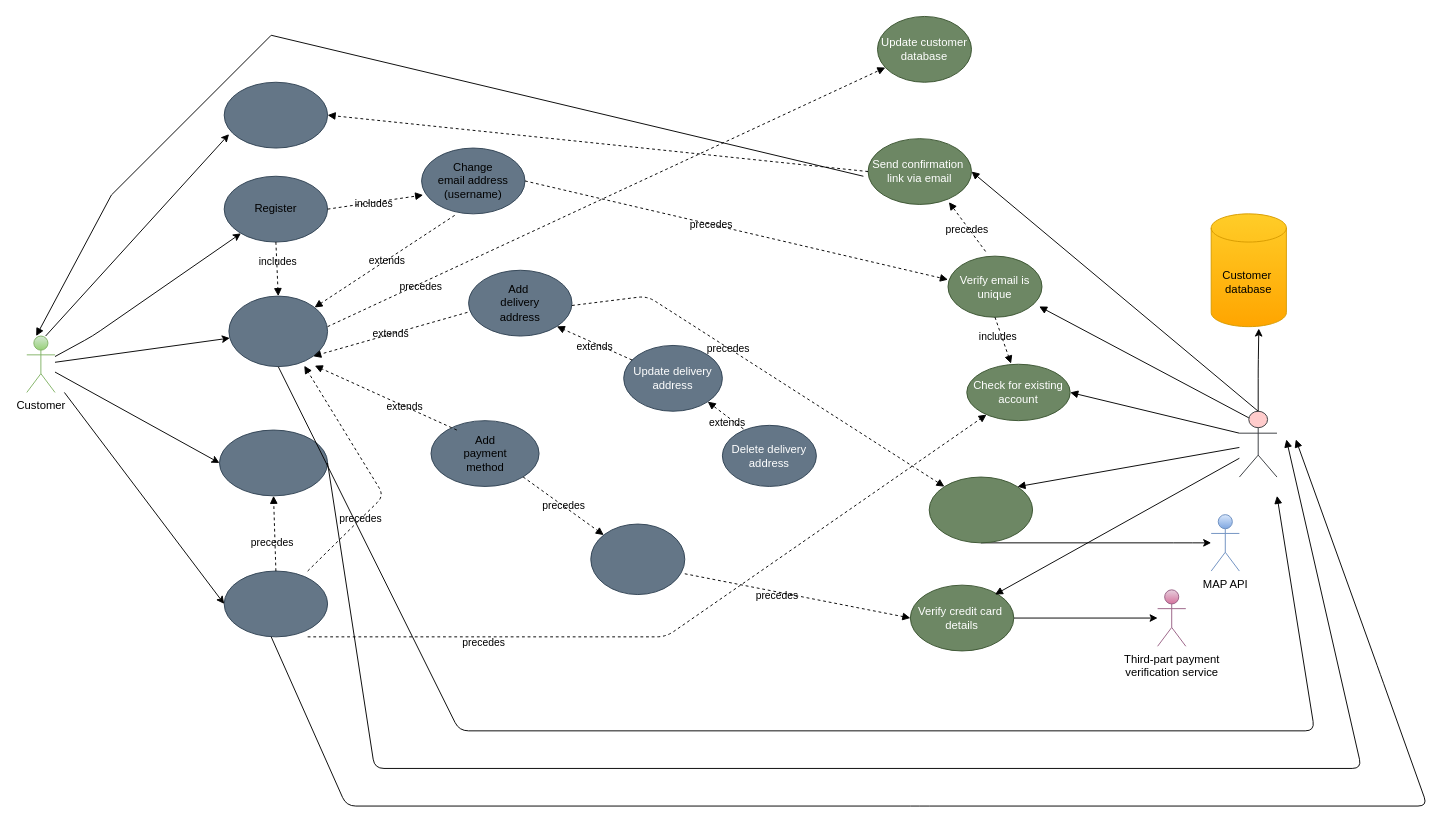
The diagram is 1451 pixels wide and 830 high, and some of its shapes have lost their labels. Here are the shapes that lost their labels. From the top down, the centre of each, then its label:
(275,114): Confirm email address
(278,331): Update account details
(273,462): View account
(1257,443): System
(980,509): Verify valid address
(637,559): Enter payment details
(275,603): Login
